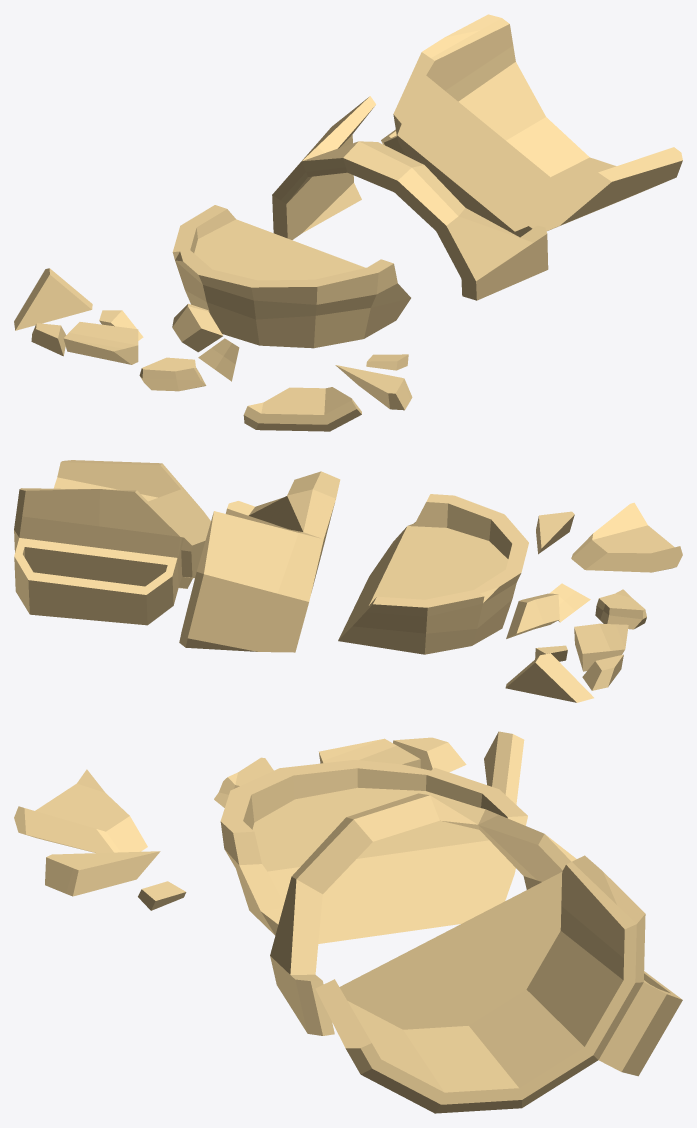
Rendered from brokenCup.fbx.
The picture shows the model from 3 angles, top to bottom: view 1: azimuth 30°, elevation 25°; view 2: azimuth 150°, elevation 25°; view 3: azimuth 270°, elevation 25°; orthographic projection. The views are drawn at different scales.
Visible parts, largest first — view 1: Cylinder.001_cell; view 2: Cylinder.001_cell; view 3: Cylinder.001_cell.
Boxes of the visible parts, x1=… form: Cylinder.001_cell: x1=14, y1=14, x2=682, y2=431; Cylinder.001_cell: x1=14, y1=460, x2=682, y2=702; Cylinder.001_cell: x1=14, y1=731, x2=682, y2=1113.
Size of the model in its own units: 148 by 32.44 by 113.
